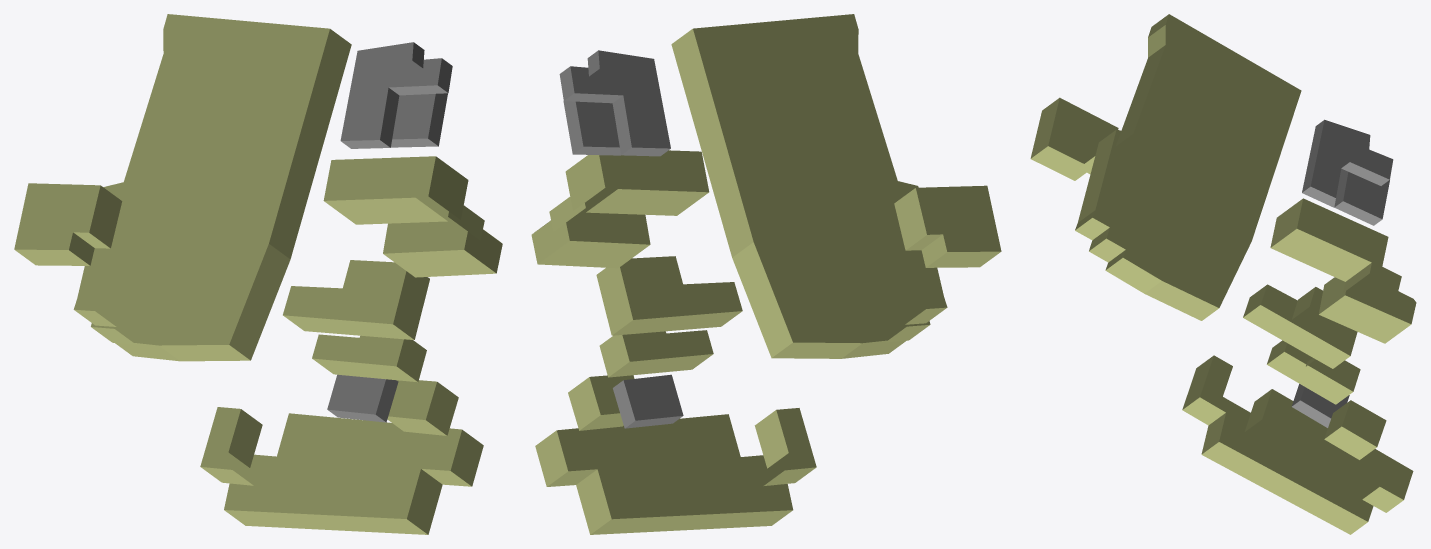
3 renders of one model, left to right at view 1: azimuth 30°, elevation 25°; view 2: azimuth 150°, elevation 25°; view 3: azimuth 330°, elevation 25°, orthographic. The views are drawn at different scales.
Parts seen in each view (by area): view 1: 0_1_0_1_3_3_3_3; view 2: 0_1_0_1_3_3_3_3; view 3: 0_1_0_1_3_3_3_3.
Boxes of the visible parts, x1=… form: 0_1_0_1_3_3_3_3: x1=14, y1=14, x2=502, y2=534; 0_1_0_1_3_3_3_3: x1=531, y1=14, x2=1001, y2=534; 0_1_0_1_3_3_3_3: x1=1030, y1=14, x2=1416, y2=534.
Bounding box in the file's own units: 72.53 × 86.41 × 9.6.
